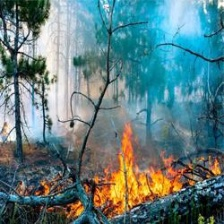fire: (81, 139, 194, 205)
